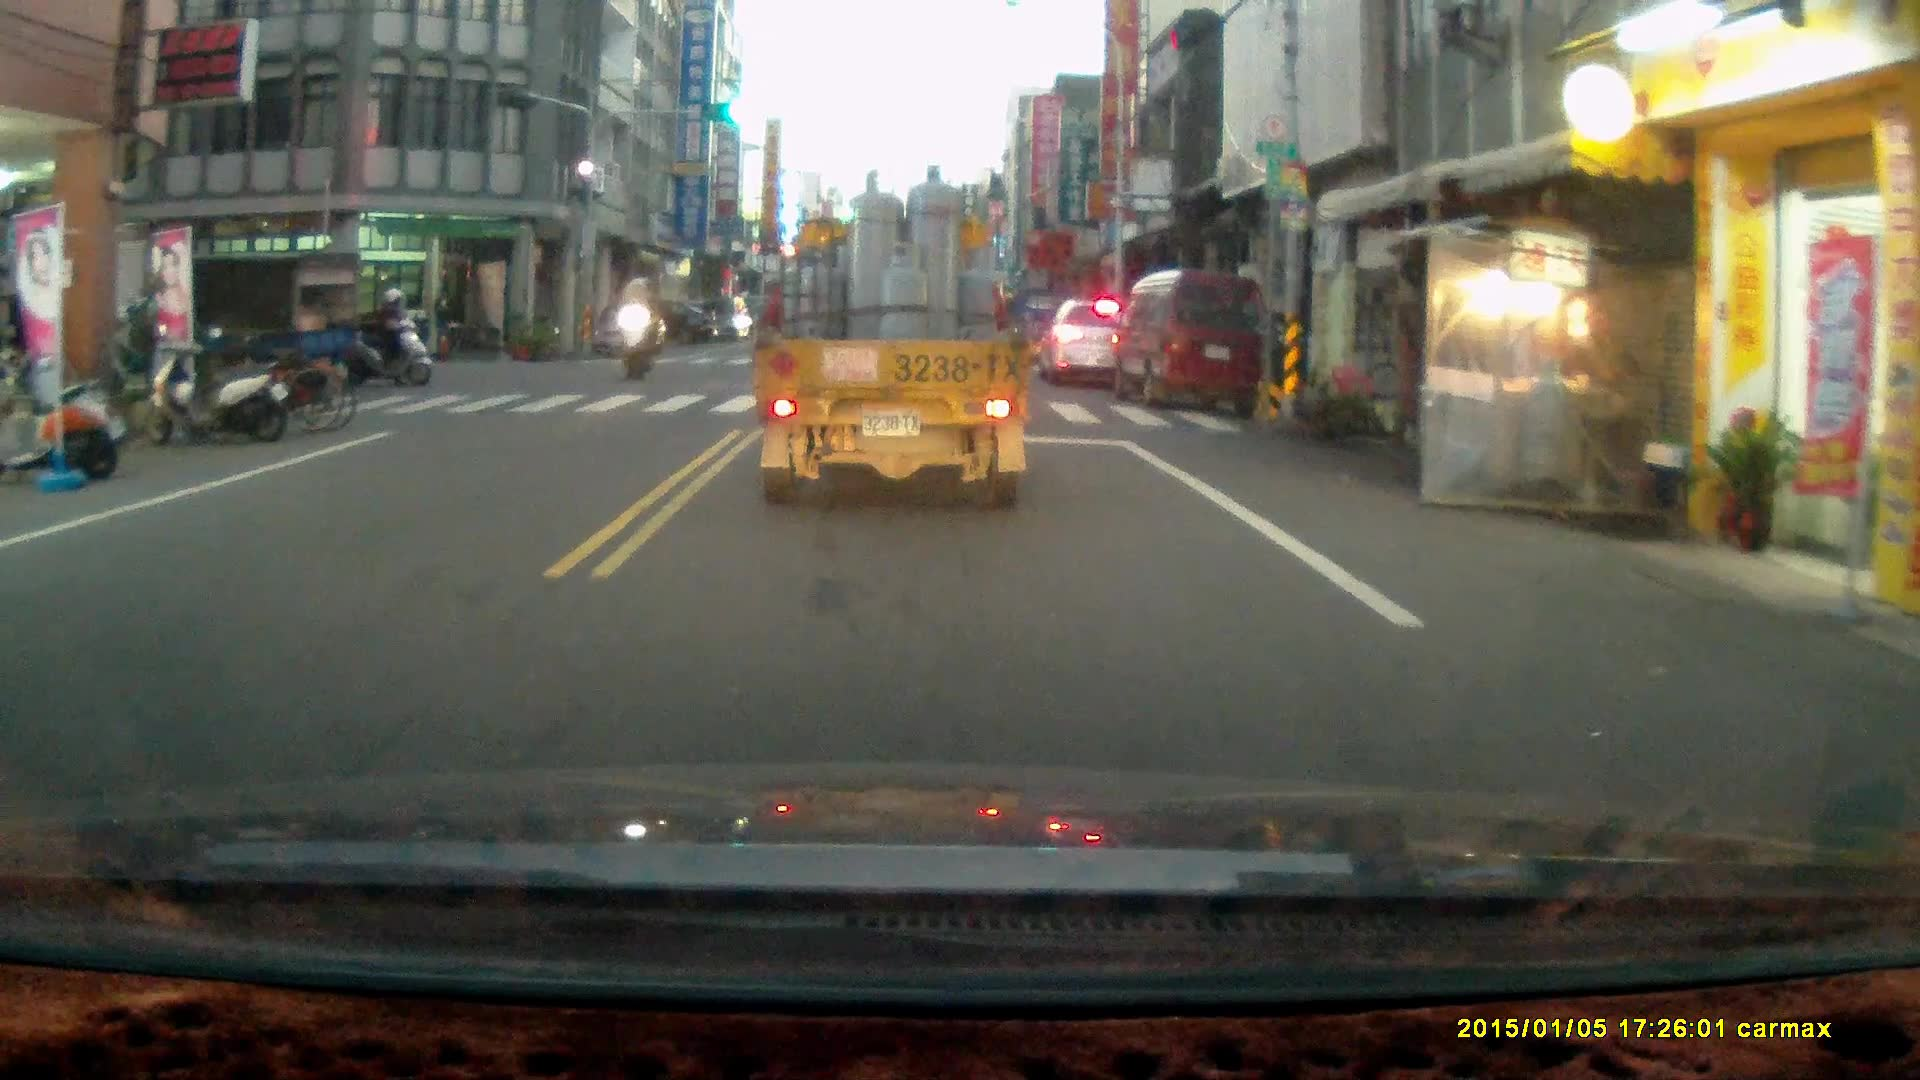pedestrian: (430, 280, 457, 361)
rider: (351, 283, 435, 387), (611, 274, 662, 382)
vehicle: (753, 165, 1028, 510), (94, 247, 367, 401), (1111, 268, 1272, 416), (1044, 292, 1140, 386), (593, 297, 672, 359), (681, 291, 747, 341)
